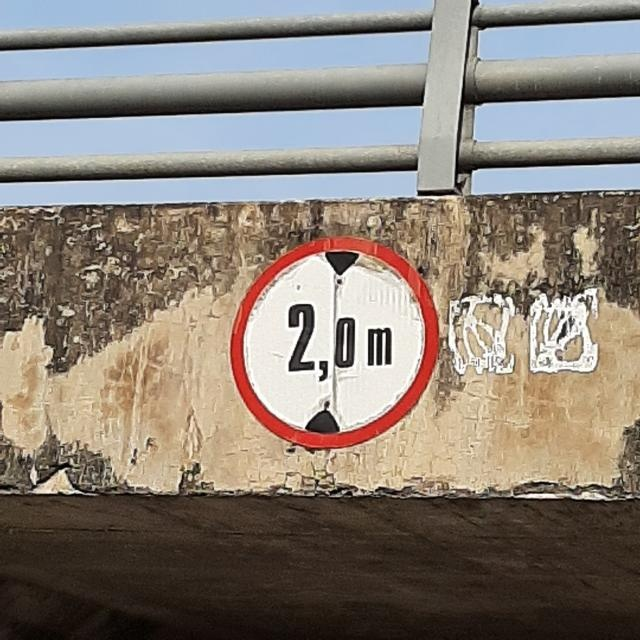bien_cam: (231, 236, 435, 448)
